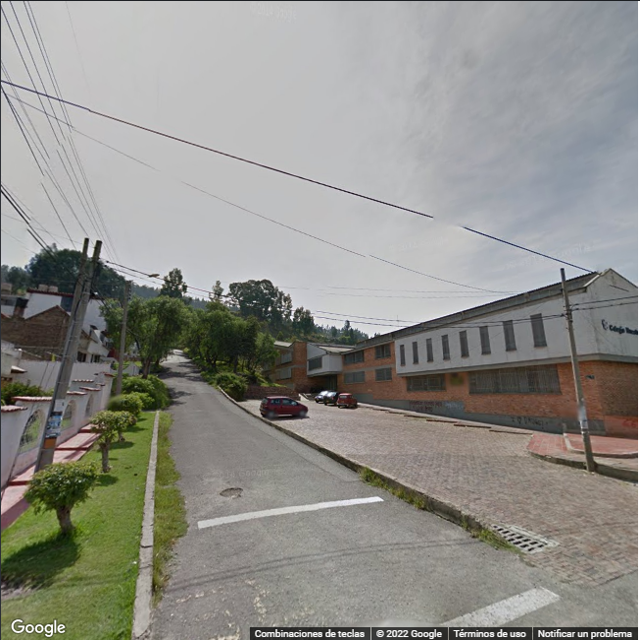D40: (214, 482, 246, 500)
